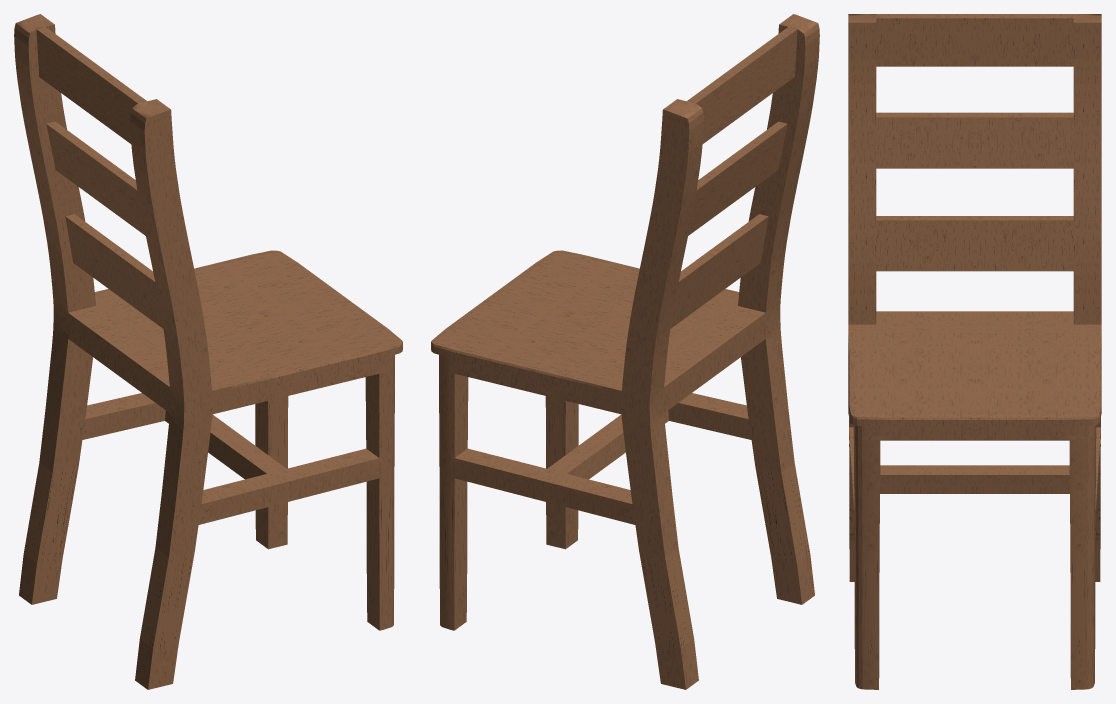
File: geoChair.fbx
3 views of the same model, side by side, from view 1: azimuth 30°, elevation 25°; view 2: azimuth 150°, elevation 25°; view 3: azimuth 270°, elevation 25° (orthographic). The views are drawn at different scales.
Parts seen in each view (by area): view 1: Cube.009; view 2: Cube.009; view 3: Cube.009.
Part boxes in pixels (x1,y1,x2,y2): Cube.009: (14, 14, 402, 689); Cube.009: (431, 14, 819, 689); Cube.009: (848, 14, 1101, 689).
Size of the model in its own units: 107 by 224 by 91.97.
1 material, 1 textured.
